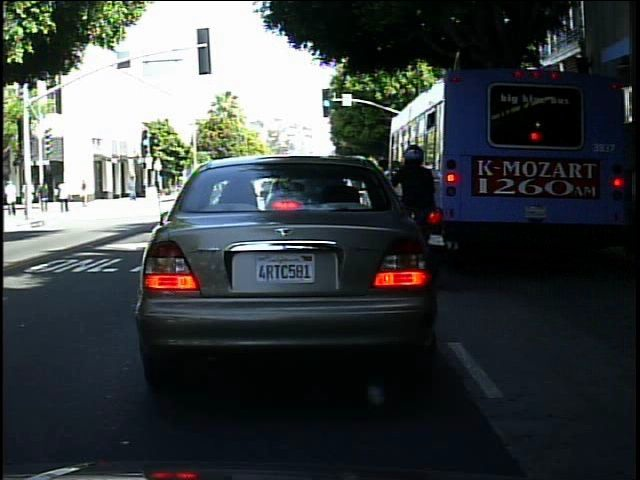person: (379, 140, 448, 273), (4, 175, 20, 221), (56, 175, 73, 215), (21, 176, 36, 218), (77, 174, 94, 211), (36, 176, 53, 209), (38, 180, 53, 216), (126, 171, 141, 203)
